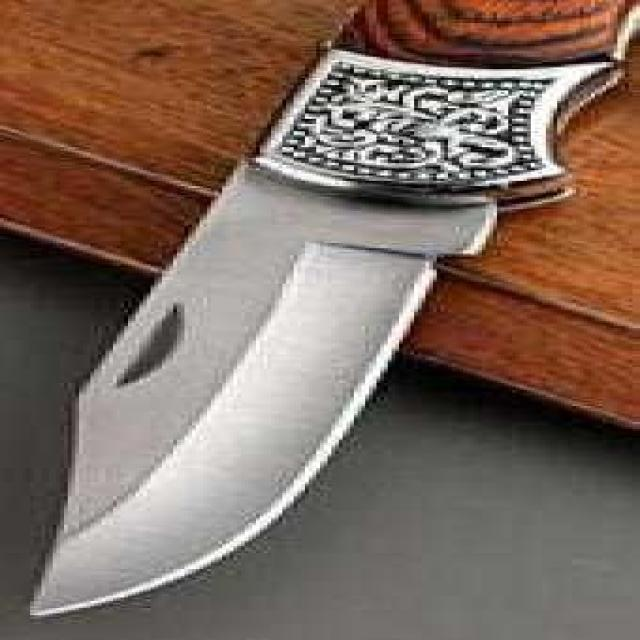knife: (20, 0, 640, 618)
